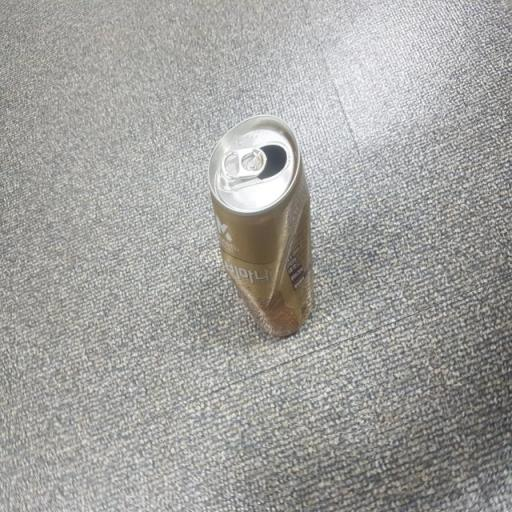metal: (185, 94, 341, 369)
